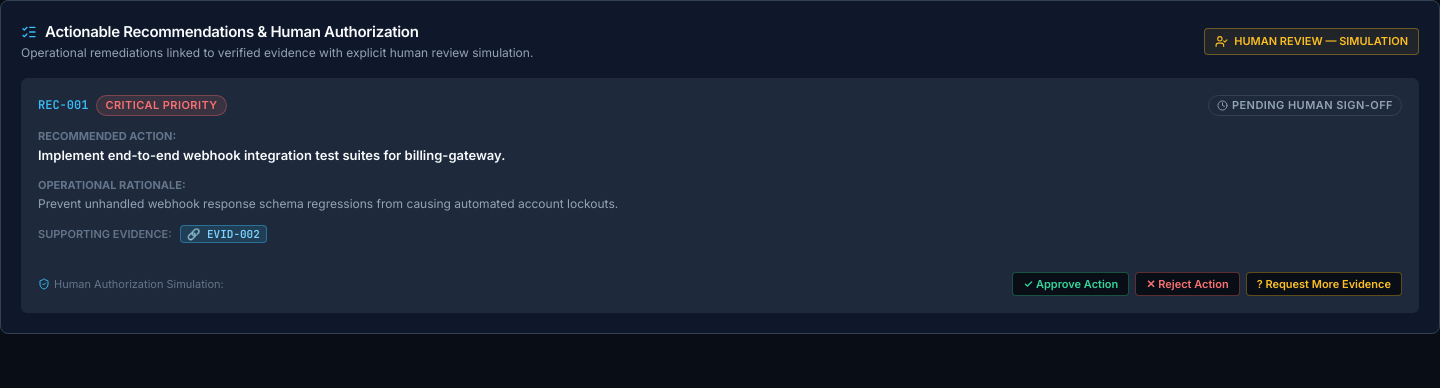
Test: RecommendationsSection component › simulates rejection when Reject Action is clicked
Click the button "✕ Reject Action" at (1188, 284), box [1135,272,1240,296]
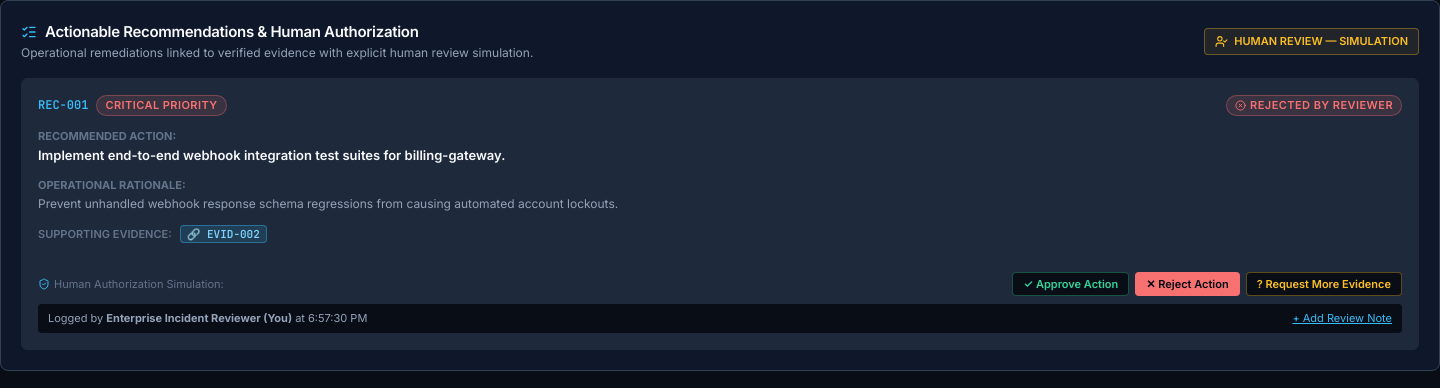
Expected: the text "Rejected by Reviewer" is shown, [1226,94,1402,116]
